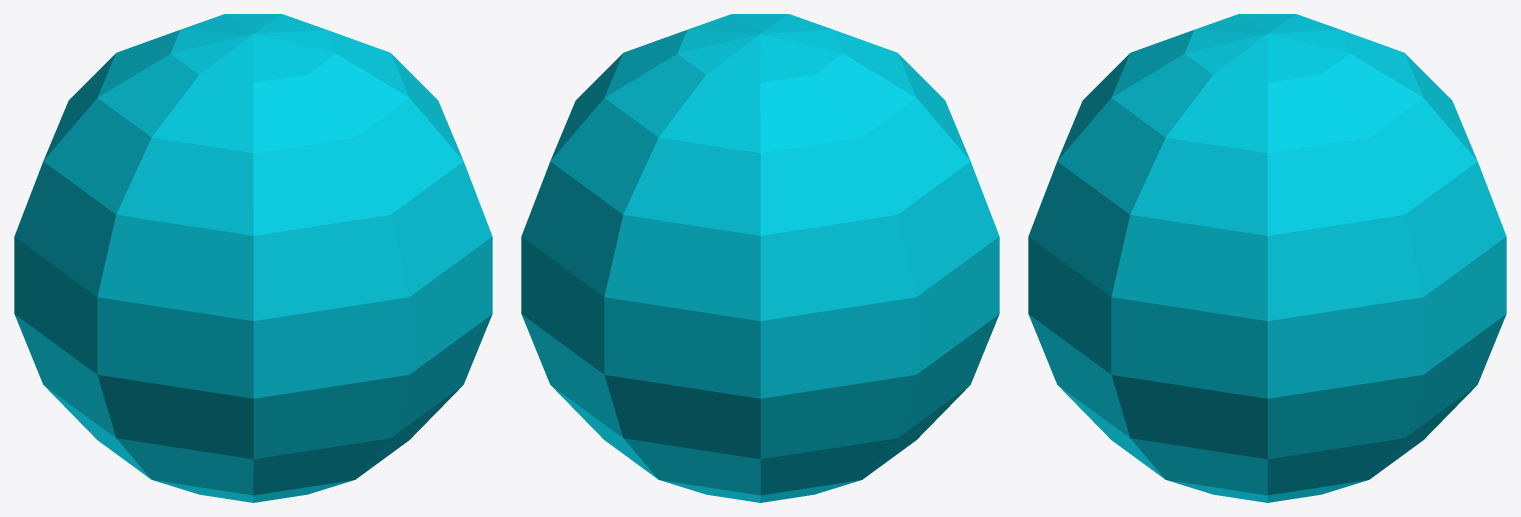
File: CatBall.fbx
The picture shows the model from 3 angles, left to right: view 1: azimuth 30°, elevation 25°; view 2: azimuth 150°, elevation 25°; view 3: azimuth 270°, elevation 25°; orthographic projection.
Visible parts, largest first — view 1: Cat_Ball; view 2: Cat_Ball; view 3: Cat_Ball.
Boxes of the visible parts, <box> form: Cat_Ball: <box>14,14,492,502</box>; Cat_Ball: <box>521,14,999,502</box>; Cat_Ball: <box>1028,14,1506,502</box>.
Bounding box in the file's own units: 9.03 × 9.45 × 9.17.
